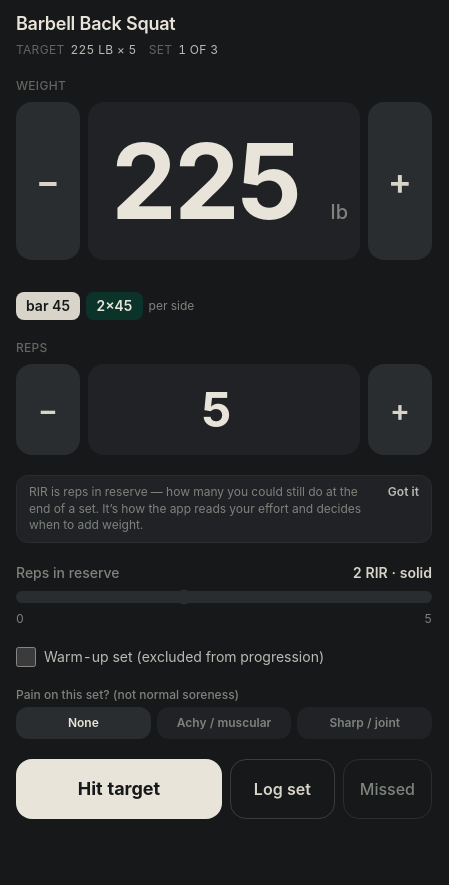
Test: LogSet screen › backs the next set off after a clear miss
Replace the text in the number field with test id "reps-input" with "3": (224, 410) [100, 380, 348, 439]
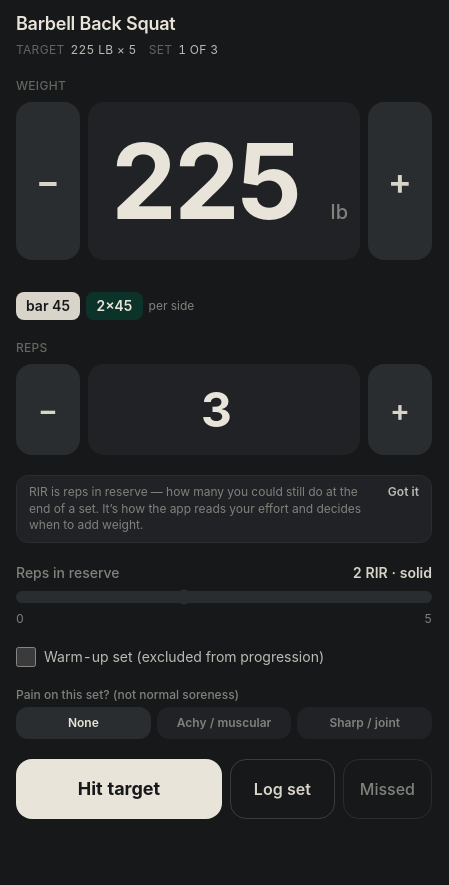
Click the button "Log set": click(282, 788) [230, 758, 335, 818]
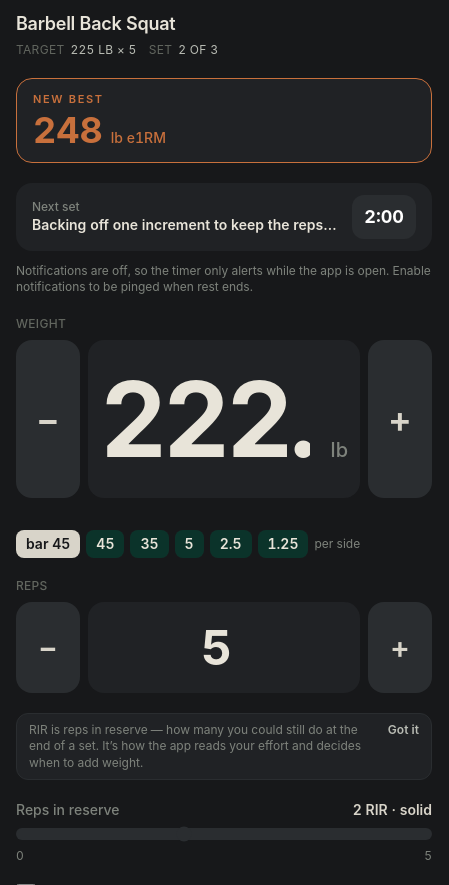
Result: the number field with test id "weight-input" holds "222.5" at [100, 356, 325, 482]
Result: the text "Backing off one increment to keep the reps clean." is shown at [32, 214, 340, 234]
